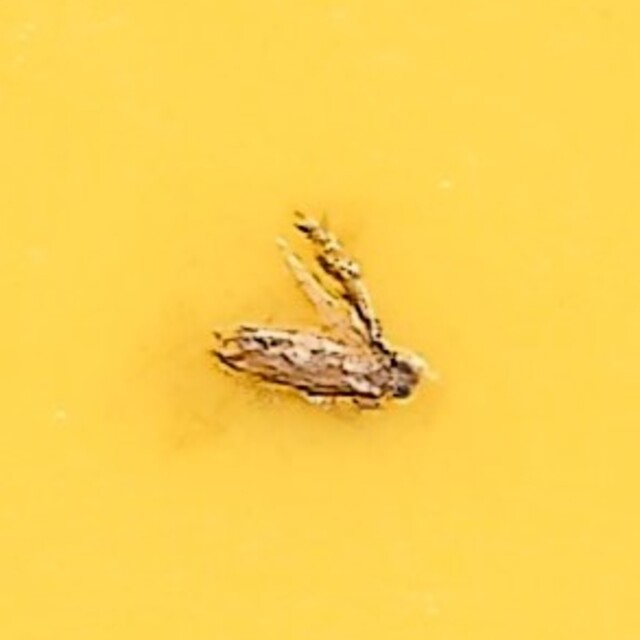Trichoptera: (218, 221, 422, 419)
